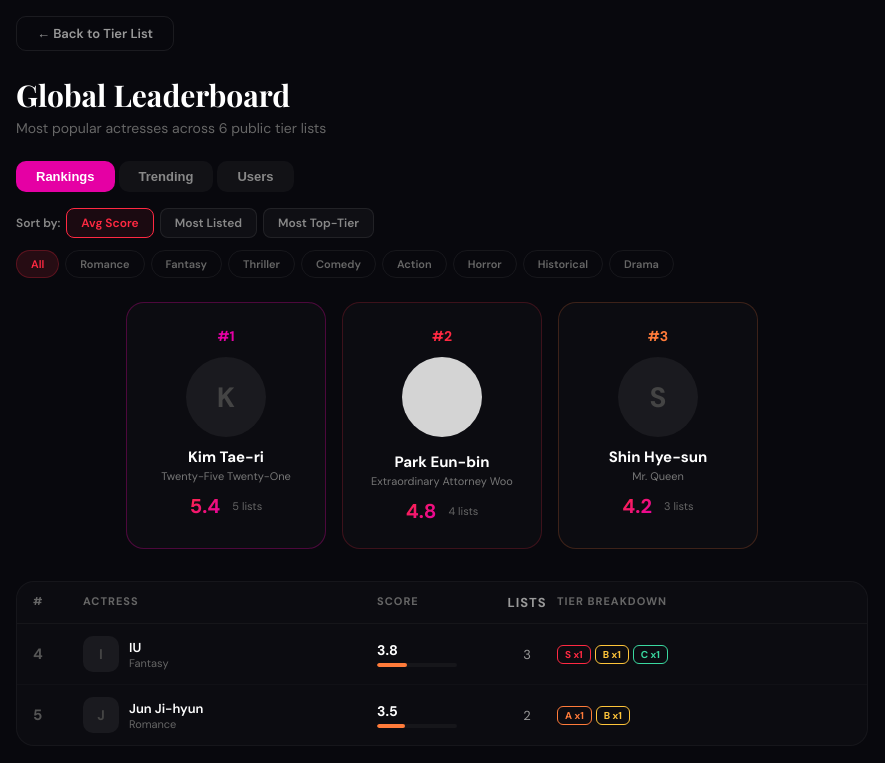
Scenario: Leaderboard › switches to trending tab and shows trending entries
Expected: the text "Kim Tae-ri" is shown, [188,447,264,467]
Click the button "Trending" at (166, 176), box [118,161,213,192]
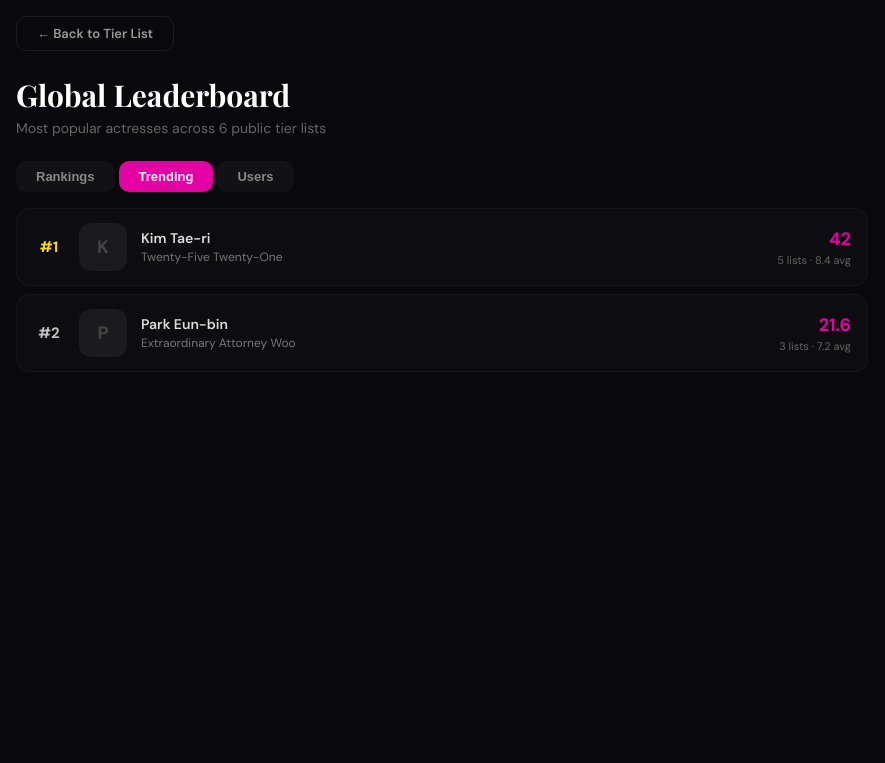
Expected: the text "42" is shown, [829,227,851,251]
